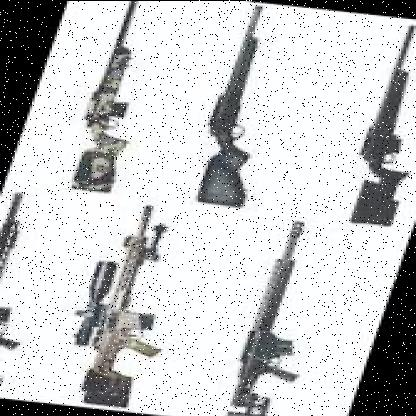rifle: (69, 204, 191, 408), (178, 3, 300, 206), (218, 220, 340, 416), (54, 0, 176, 194), (334, 23, 416, 228), (0, 192, 62, 396)
